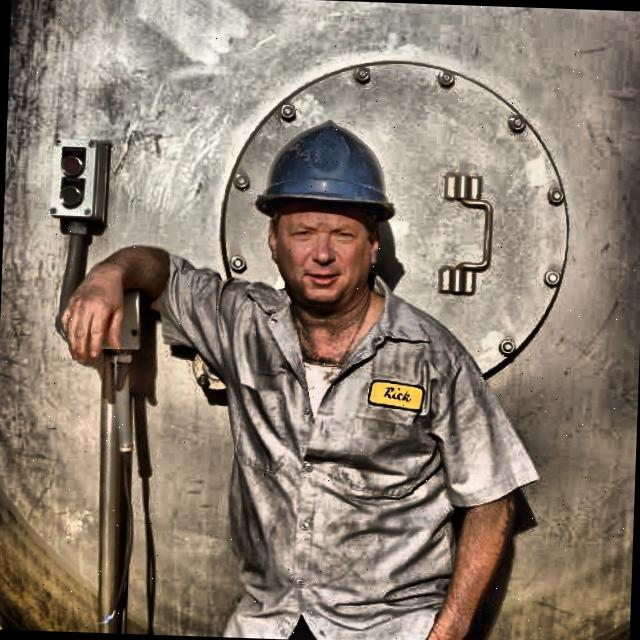helmet: (228, 92, 414, 340)
